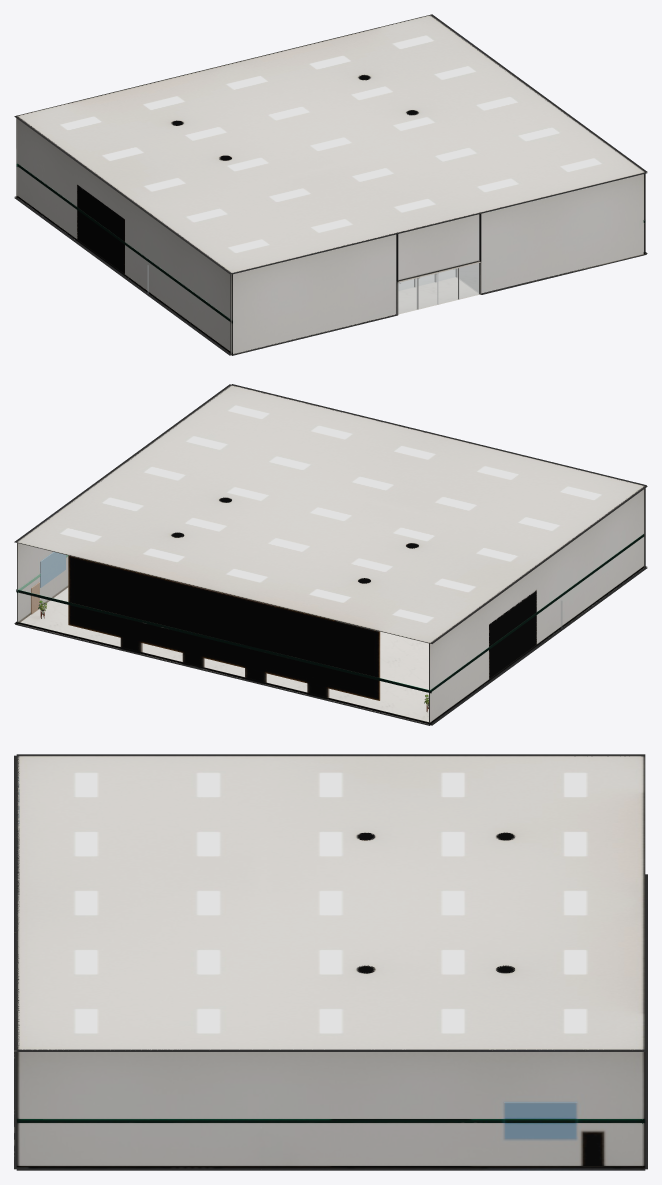
Rendered from int_cbn_hall.glb.
3 renders of one model, top to bottom at view 1: azimuth 30°, elevation 25°; view 2: azimuth 150°, elevation 25°; view 3: azimuth 270°, elevation 25°, orthographic. The views are drawn at different scales.
Visible parts, largest first — view 1: ROOM, GLASS; view 2: ROOM; view 3: ROOM.
Boxes of the visible parts, x1,y1,x2,y2 form: ROOM: [14, 14, 647, 355]; GLASS: [147, 263, 478, 312]; ROOM: [14, 384, 647, 725]; ROOM: [14, 754, 647, 1170].
Bounding box in the file's own units: 40.3 × 7.5 × 36.3.
Materials: 2 (1 with a texture image).
